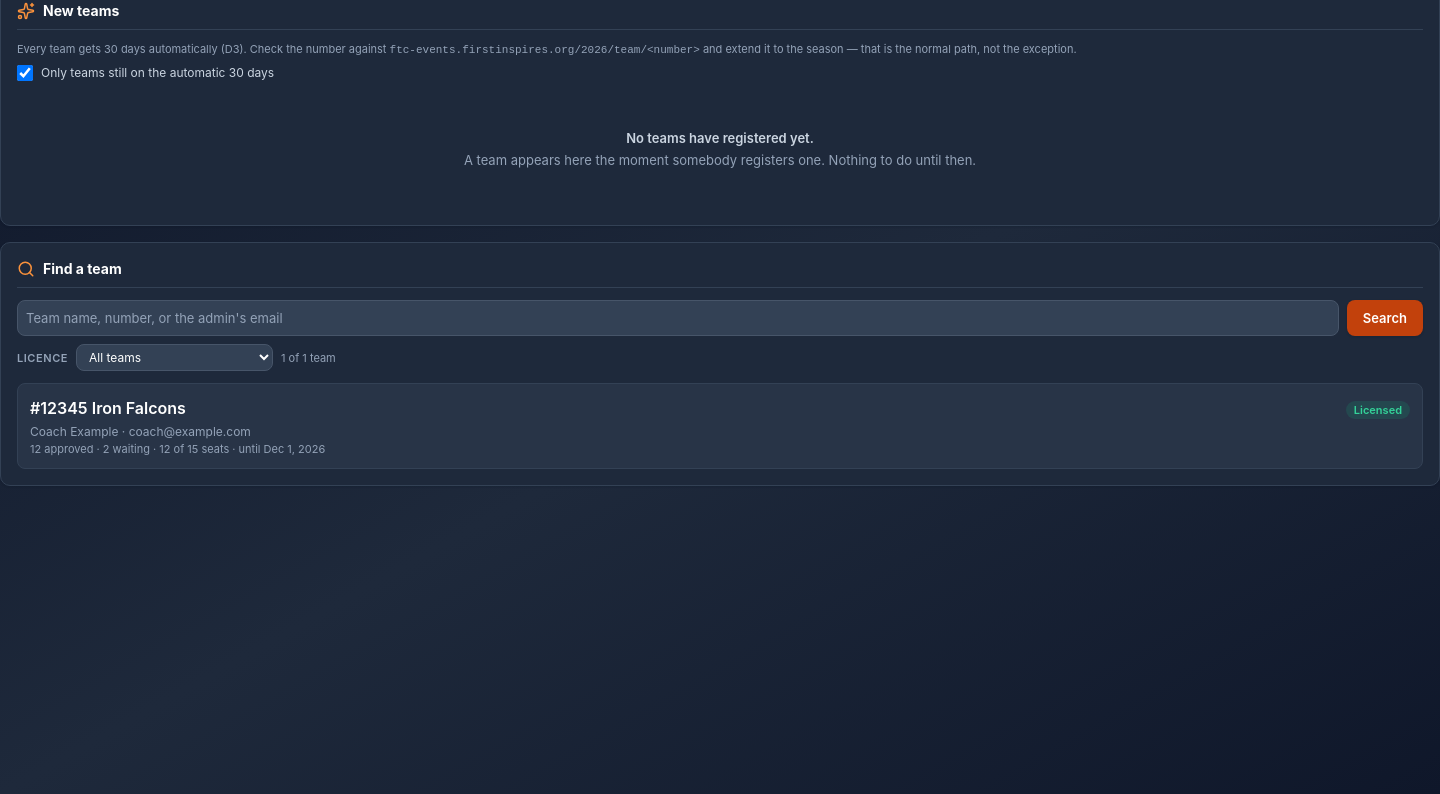
Test: SEC-11 — deleting a team from the console › will not send the request until the name matches exactly
This screenshot has width=1440, height=794.
Click the text "#12345 Iron Falcons": (108, 408) [30,396,186,420]
(page scrolled)
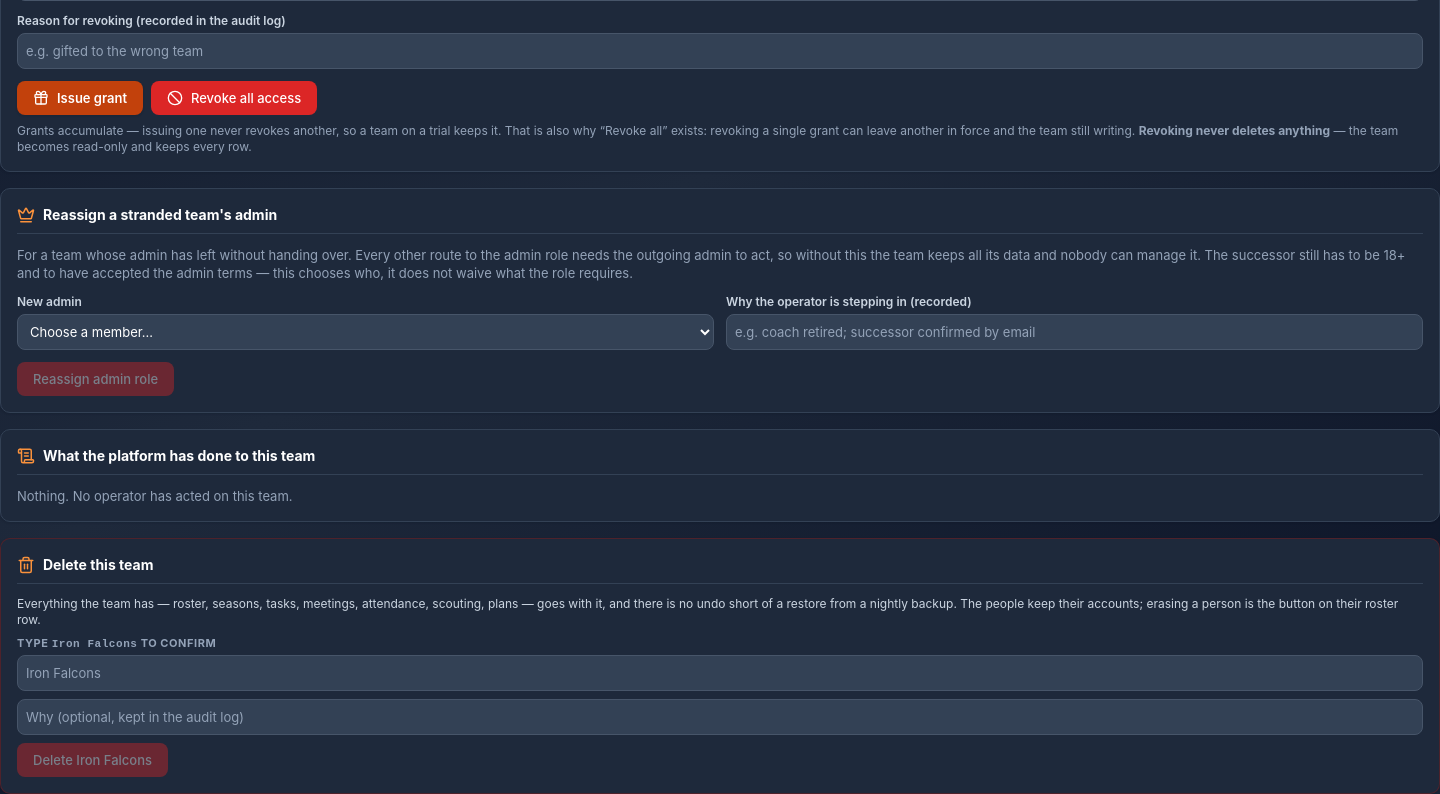
Result: the button with test id "delete-team" is disabled at [17,743,168,777]
In the field with test id "delete-team-confirm": (720, 673) [17,655,1423,691], type "iron falcons"
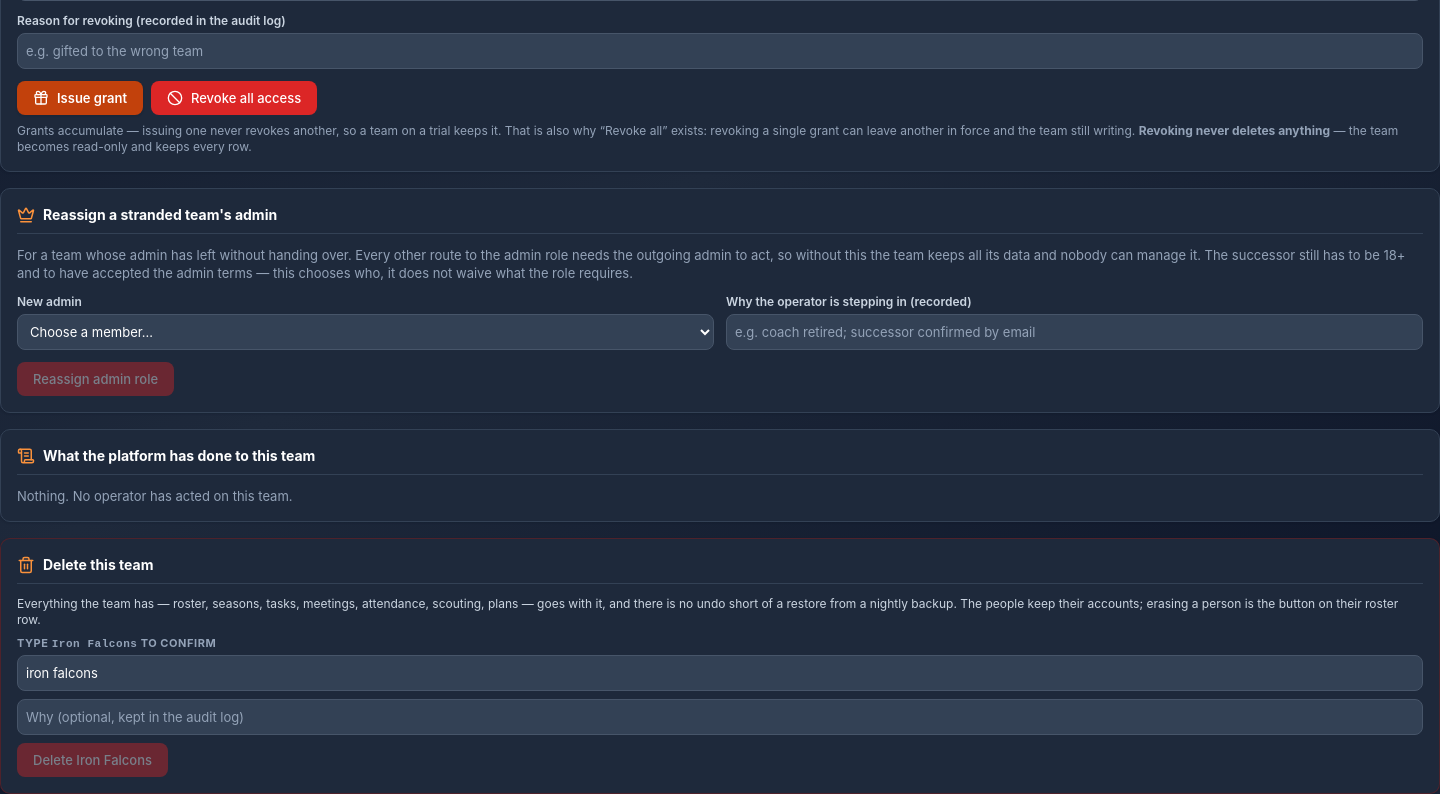
Result: the button with test id "delete-team" is disabled at [17,743,168,777]
Replace the text in the field with test id "delete-team-confirm" with "Iron Falcons": (720, 673) [17,655,1423,691]
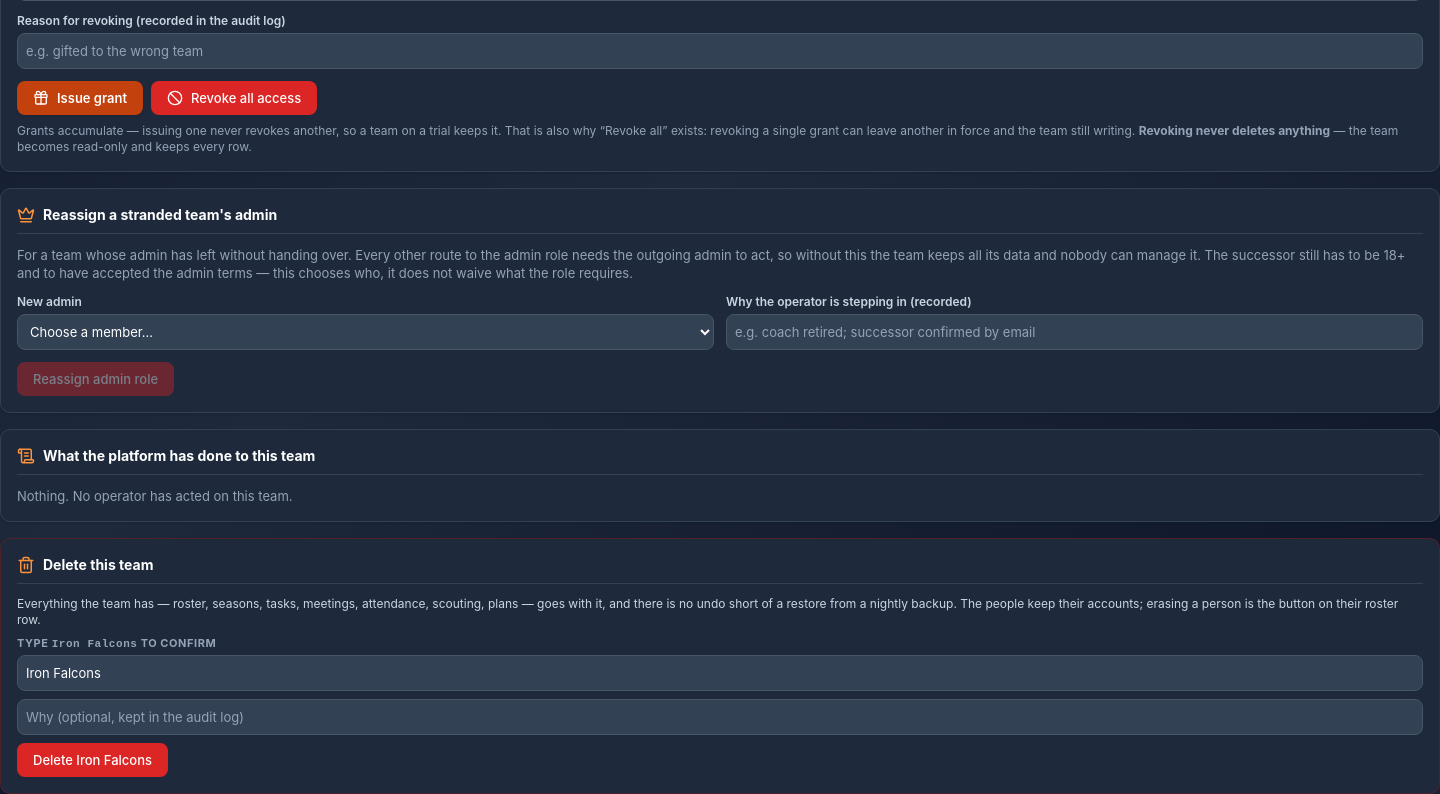
Result: the button with test id "delete-team" is enabled at [17,743,168,777]
